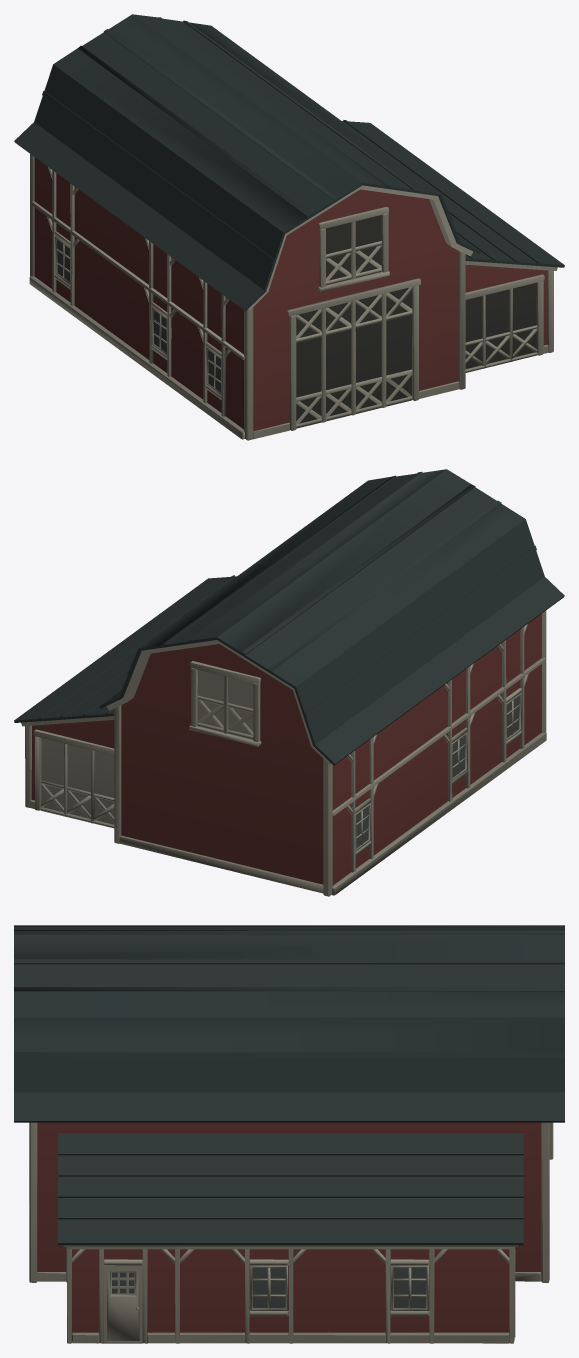
File: farm_barn_3.glb
3 views of the same model, one above another, from view 1: azimuth 30°, elevation 25°; view 2: azimuth 150°, elevation 25°; view 3: azimuth 270°, elevation 25° (orthographic). The views are drawn at different scales.
Visible parts, largest first — view 1: farm_barn_3; view 2: farm_barn_3; view 3: farm_barn_3.
Boxes of the visible parts, x1,y1,x2,y2 form: farm_barn_3: (14, 14, 564, 440); farm_barn_3: (14, 469, 564, 896); farm_barn_3: (14, 925, 564, 1343).
Size of the model in its own units: 12.78 by 8.58 by 15.03.
1 material, 1 textured.
